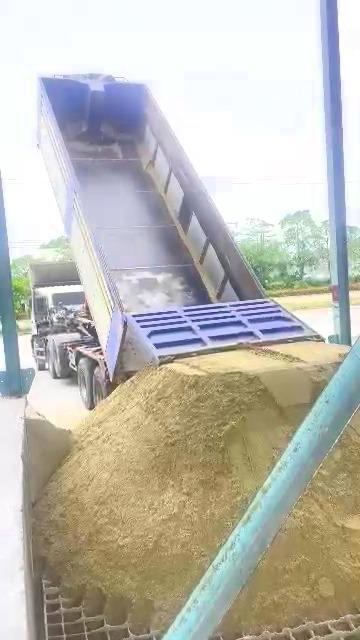sand: (36, 344, 343, 629), (222, 416, 360, 631), (26, 405, 71, 505)
